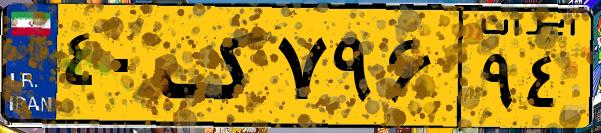0: (110, 28, 158, 98)
4: (57, 26, 110, 100), (525, 38, 570, 115)
6: (385, 28, 445, 110)
7: (270, 28, 330, 110)
9: (330, 28, 385, 110), (475, 38, 525, 113)
ک: (158, 12, 270, 120)
